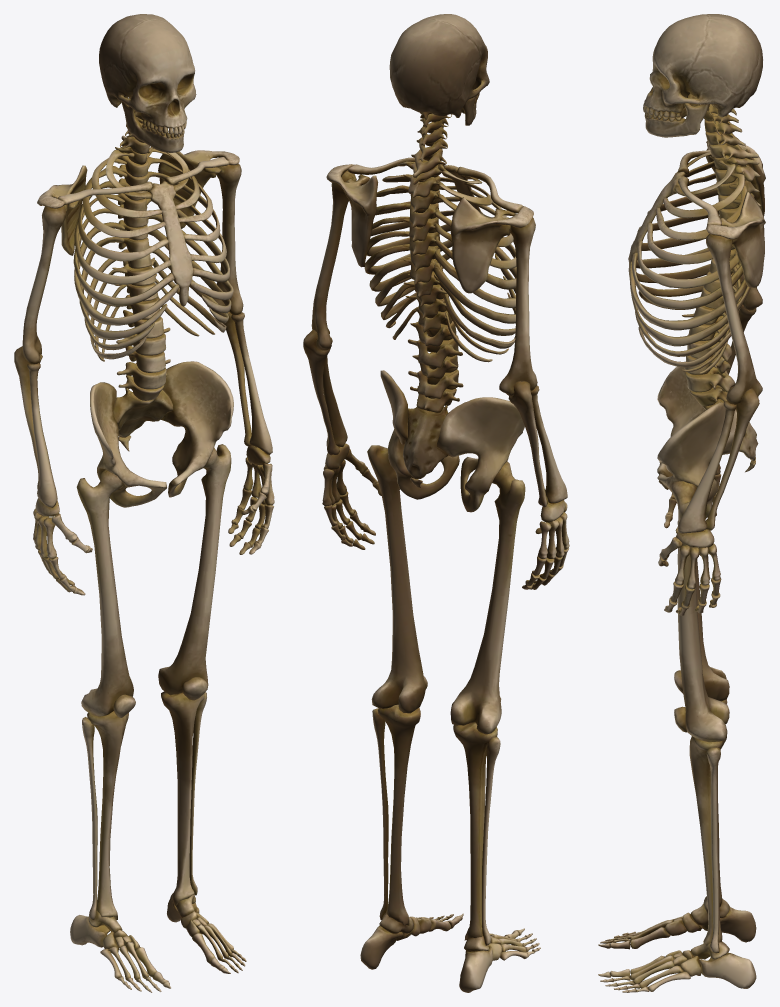
The model's file is skeleton.glb.
The picture shows the model from 3 angles, left to right: view 1: azimuth 30°, elevation 25°; view 2: azimuth 150°, elevation 25°; view 3: azimuth 270°, elevation 25°; orthographic projection. The views are drawn at different scales.
Parts seen in each view (by area): view 1: human_skeleton.1; view 2: human_skeleton.1; view 3: human_skeleton.1.
Part boxes in pixels (x1,y1,x2,y2): human_skeleton.1: (14,14,274,992); human_skeleton.1: (303,14,569,992); human_skeleton.1: (598,14,765,992).
Size of the model in its own units: 0.0677 by 0.2615 by 0.042.
1 material, 1 textured.
